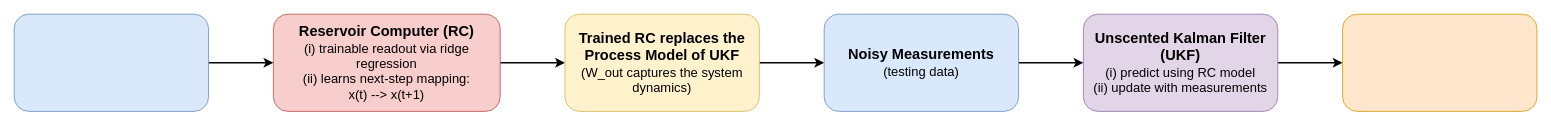
This 1551x126 diagram has some shape labels left out. Here are the shapes that lost their labels. From the top down, the box of each, then its label:
(13, 13, 209, 111): Training Data (noisy time-series)
(1342, 13, 1537, 111): State Estimate (next state estimate)
